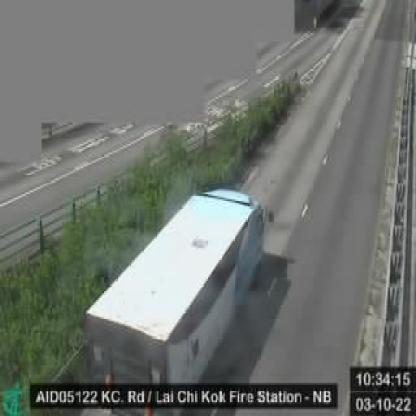Truck: (87, 189, 272, 407)
